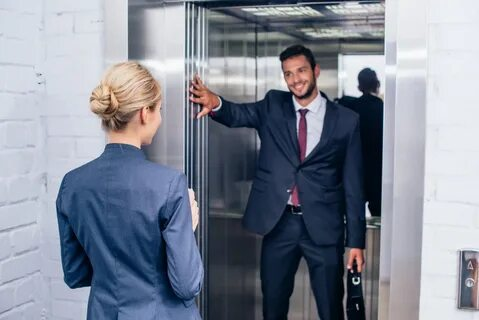awake: (54, 60, 206, 320), (244, 44, 365, 320)
